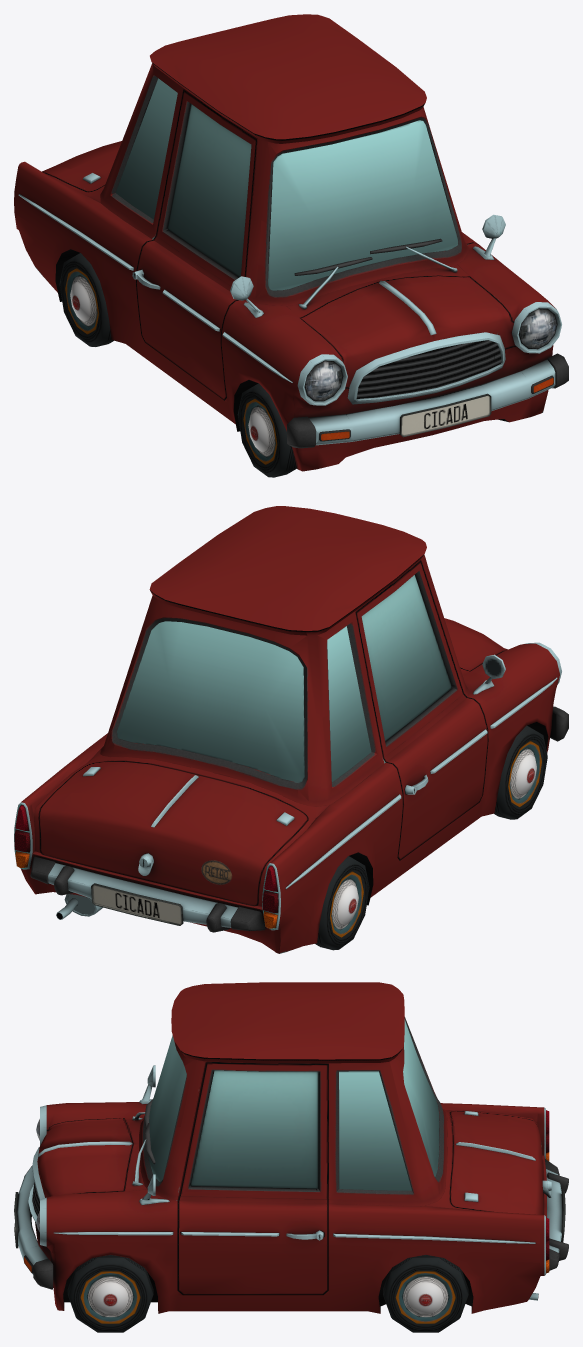
Rendered from cicada.glb.
3 renders of one model, top to bottom at view 1: azimuth 30°, elevation 25°; view 2: azimuth 150°, elevation 25°; view 3: azimuth 270°, elevation 25°, orthographic. The views are drawn at different scales.
Parts seen in each view (by area): view 1: BODY, CICADA_LOW_GLASS, right_front_wheel, right_rear_wheel, CICADA_FRONT_LAMPS; view 2: BODY, CICADA_LOW_GLASS, right_front_wheel, right_rear_wheel, CICADA_REAR_LAMPS; view 3: BODY, CICADA_LOW_GLASS, left_front_wheel, left_rear_wheel.
Part boxes in pixels (left/top/right/bottom): BODY: left=14, top=14, right=568, bottom=471; CICADA_LOW_GLASS: left=115, top=78, right=457, bottom=290; right_front_wheel: left=237, top=383, right=296, bottom=477; right_rear_wheel: left=59, top=253, right=113, bottom=346; CICADA_FRONT_LAMPS: left=304, top=308, right=557, bottom=401; BODY: left=14, top=506, right=568, bottom=953; CICADA_LOW_GLASS: left=117, top=575, right=451, bottom=782; right_front_wheel: left=494, top=725, right=547, bottom=819; right_rear_wheel: left=315, top=856, right=369, bottom=950; CICADA_REAR_LAMPS: left=14, top=804, right=278, bottom=928; BODY: left=14, top=982, right=568, bottom=1313; CICADA_LOW_GLASS: left=148, top=1019, right=439, bottom=1190; left_front_wheel: left=67, top=1255, right=153, bottom=1332; left_rear_wheel: left=383, top=1255, right=468, bottom=1332.
Size of the model in its own units: 0.7368 by 0.7507 by 1.42.
1 material, 1 textured.
